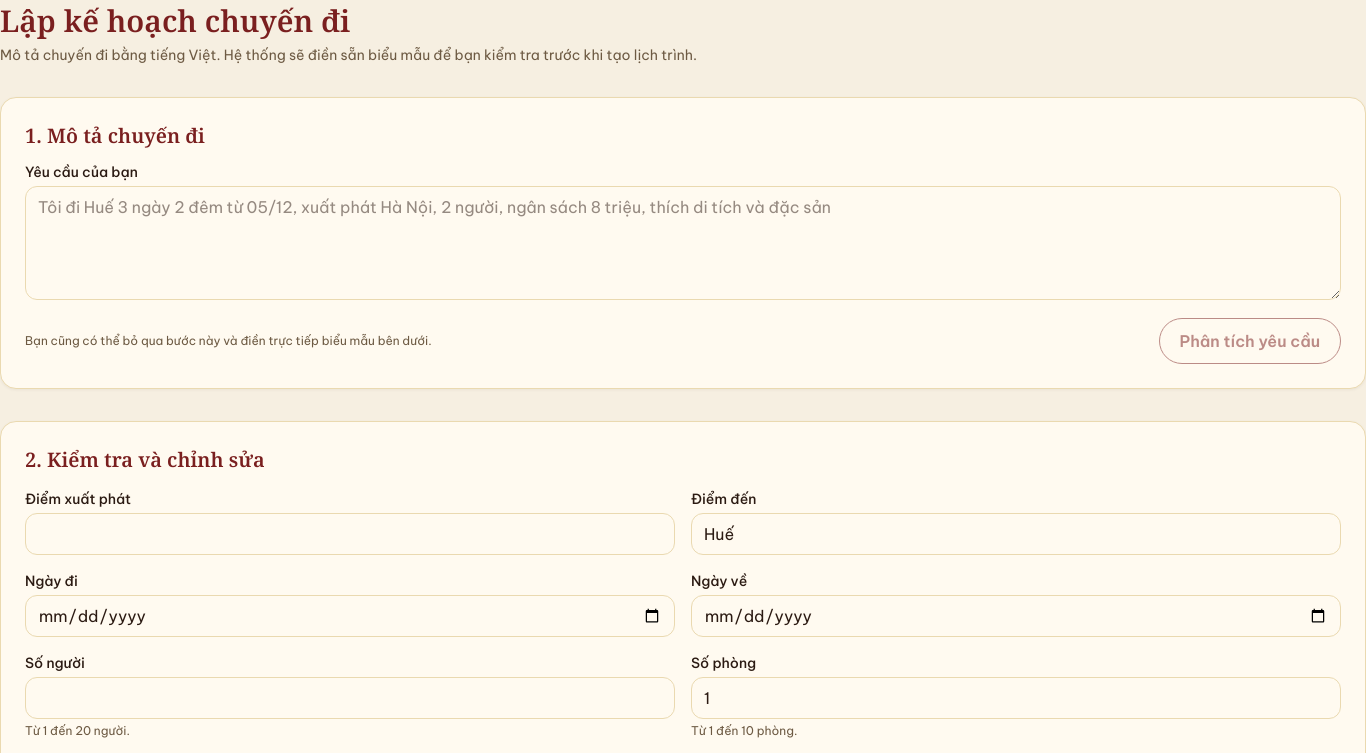
Test: RequestPage › highlights what the parser could not find and keeps submit disabled
Type "Tôi muốn đi Huế vào tháng sau, 2 người" into the text box labelled "Yêu cầu của bạn" at point(683, 243), box [25,186,1341,300]
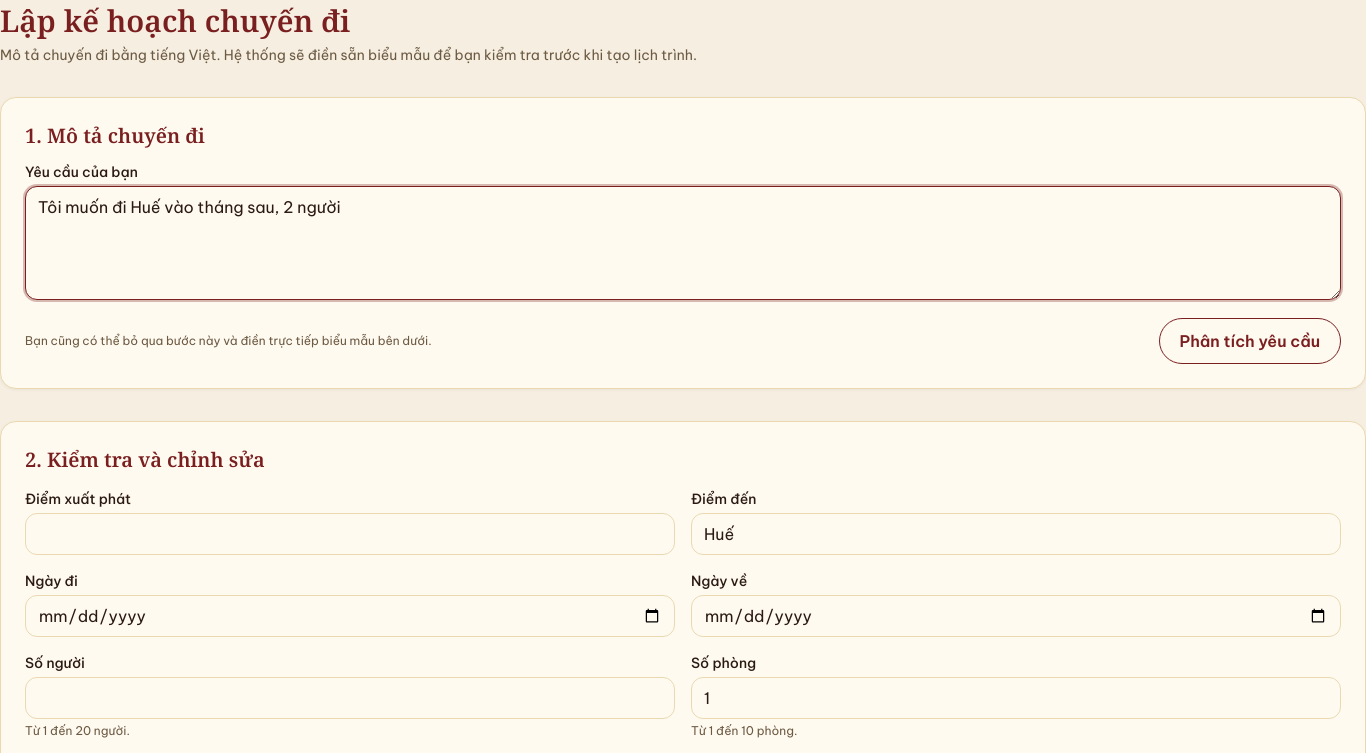
Click the button "Phân tích yêu cầu" at point(1250, 341), box [1159,318,1341,364]
(page scrolled)
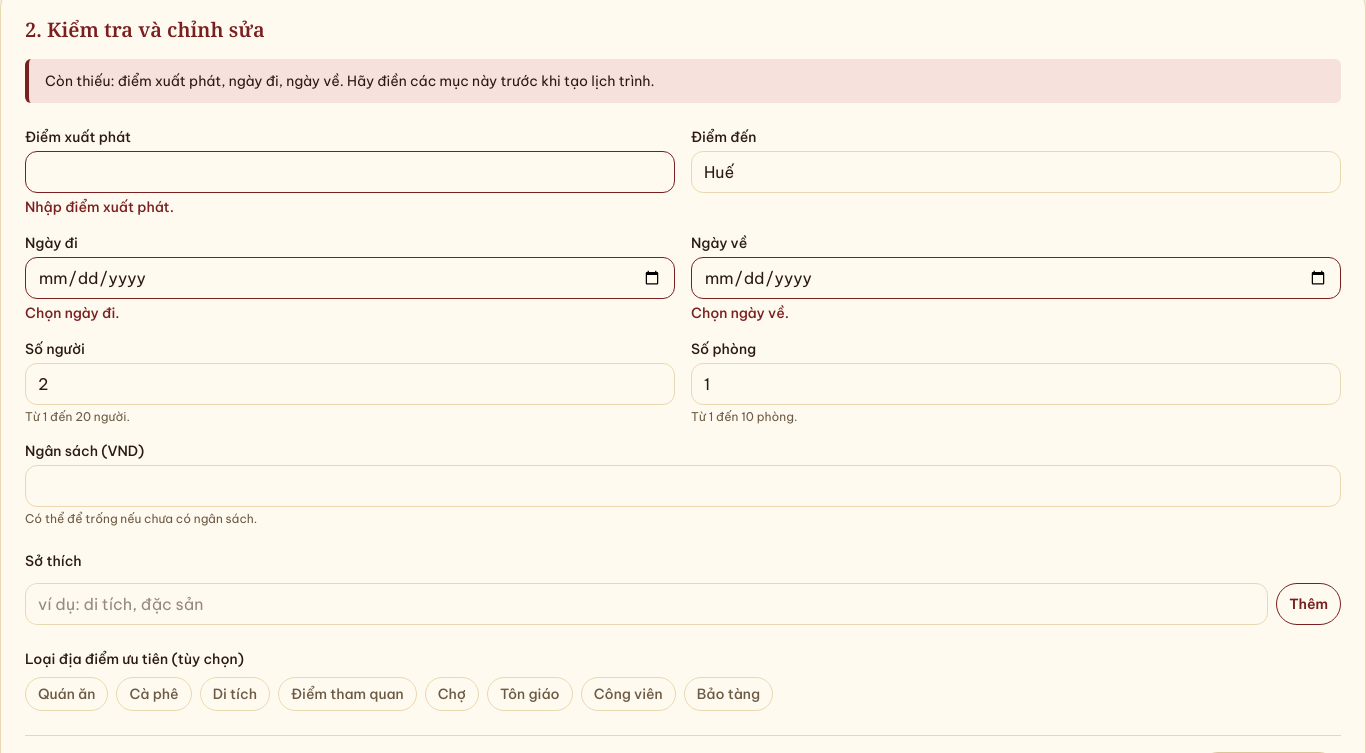
Expected: the text "Nhập điểm xuất phát." is shown, [25,198,174,216]
Expected: the number field labelled "Số người" holds "2", [25,363,675,405]
